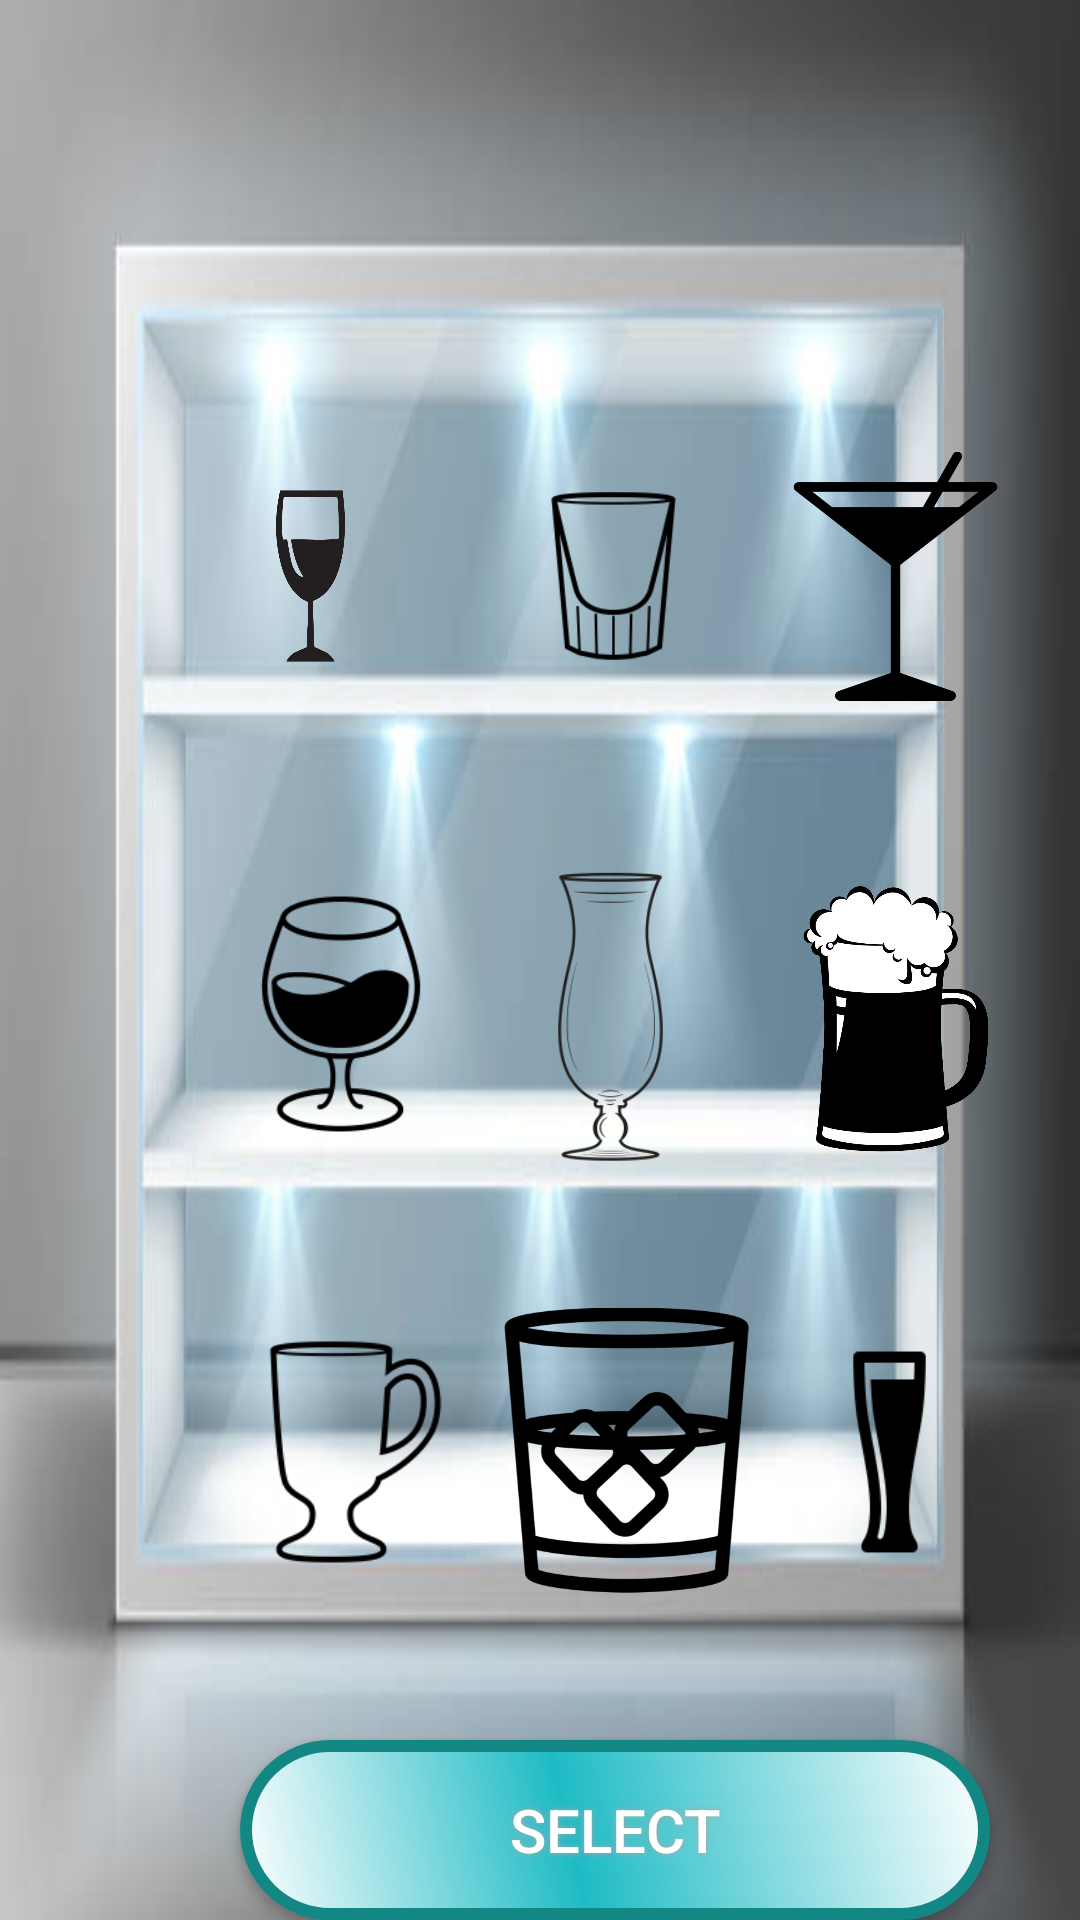

Icon click points for this 1080px x 1920px phone screenshot, format (x=x, y=y):
beermug: (x=892, y=1014)
brandy: (x=340, y=1014)
coffee: (x=355, y=1452)
martini: (x=895, y=576)
vodka: (x=625, y=1452)
